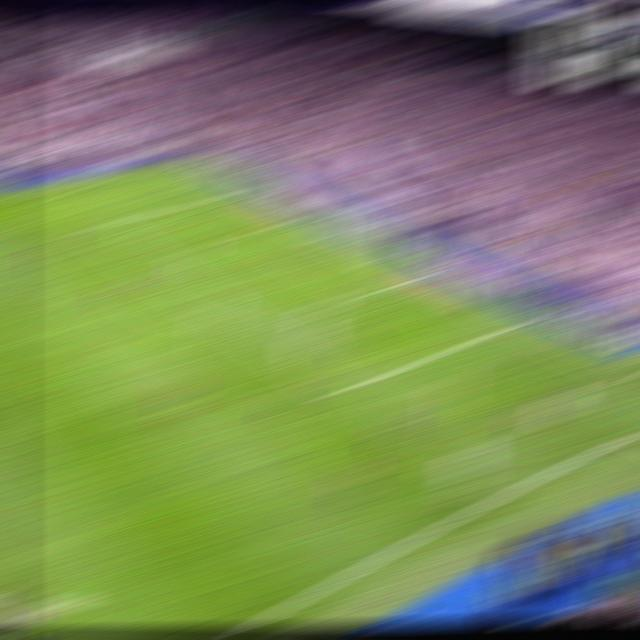bigarea_bottom_inner: (324, 382, 356, 399)
bigarea_bottom_outter: (505, 315, 536, 326)
bigarea_top_inner: (81, 220, 108, 230)
bigarea_top_outter: (225, 187, 254, 195)
bottom_arc_area_intersection: (222, 315, 252, 327)
smallarea_bottom_inner: (356, 286, 386, 298)
smallarea_bottom_outter: (406, 271, 434, 279)
smallarea_top_inner: (241, 229, 267, 234)
top_arc_area_intersection: (138, 259, 167, 269)
